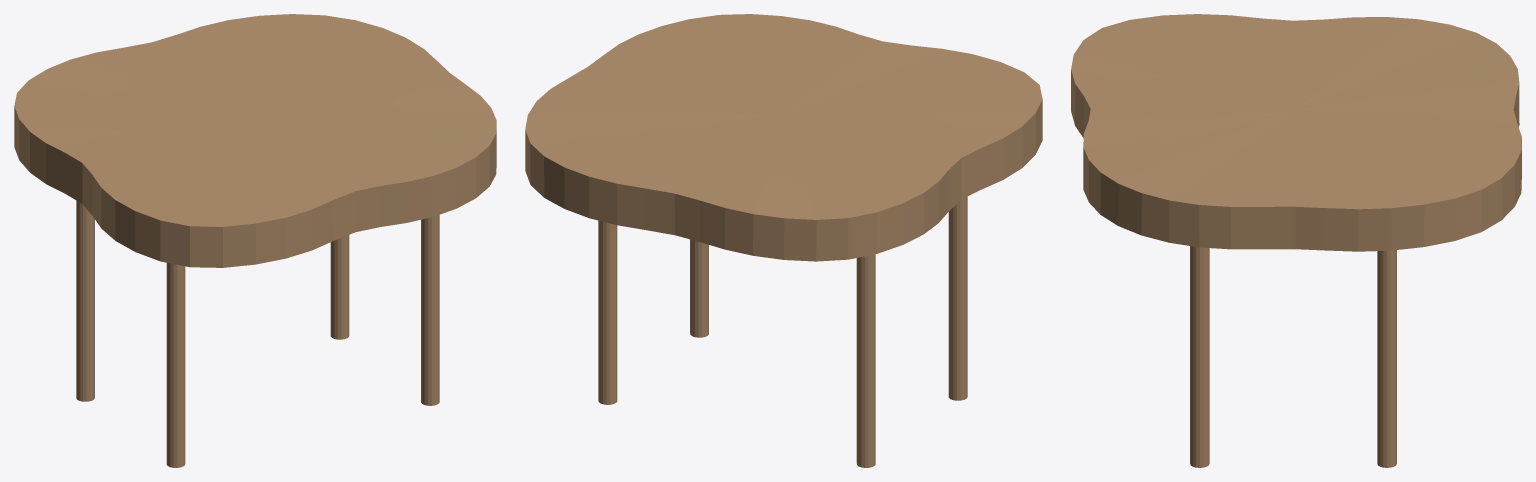
The model's file is mesa_v03_sin_tapete.glb.
The picture shows the model from 3 angles, left to right: view 1: azimuth 30°, elevation 25°; view 2: azimuth 150°, elevation 25°; view 3: azimuth 270°, elevation 25°; orthographic projection. The views are drawn at different scales.
Parts seen in each view (by area): view 1: Tapa_Organica_V3, Pata_V1_1, Pata_V1_3, Pata_V1_2, Pata_V1_4; view 2: Tapa_Organica_V3, Pata_V1_3, Pata_V1_1, Pata_V1_4, Pata_V1_2; view 3: Tapa_Organica_V3, Pata_V1_2, Pata_V1_4.
Boxes of the visible parts, box(x1,y1,x2,y2) form: Tapa_Organica_V3: box(14, 14, 496, 267); Pata_V1_1: box(166, 263, 185, 467); Pata_V1_3: box(76, 200, 94, 401); Pata_V1_2: box(421, 215, 439, 405); Pata_V1_4: box(330, 235, 349, 339); Tapa_Organica_V3: box(525, 14, 1042, 261); Pata_V1_3: box(856, 254, 875, 467); Pata_V1_1: box(948, 196, 967, 400); Pata_V1_4: box(598, 220, 617, 404); Pata_V1_2: box(690, 239, 708, 337); Tapa_Organica_V3: box(1071, 14, 1521, 251); Pata_V1_2: box(1190, 246, 1209, 467); Pata_V1_4: box(1377, 250, 1396, 467).
Bounding box in the file's own units: 1.18 × 0.8216 × 1.16.
